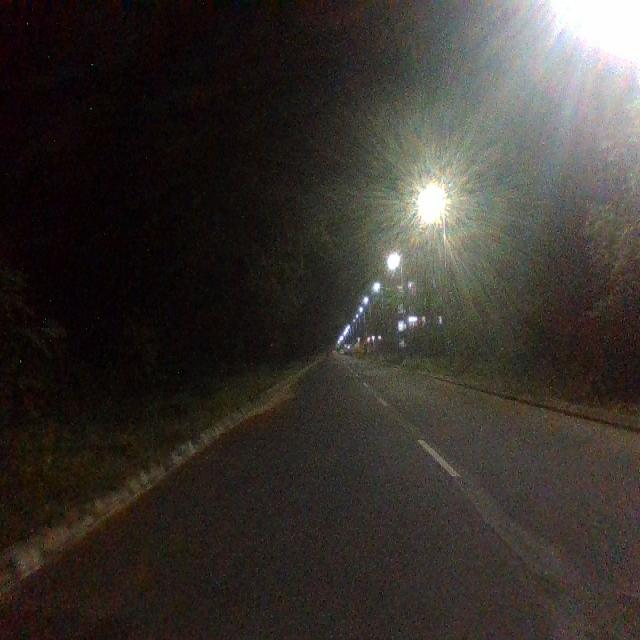lane: (0, 362, 608, 640)
